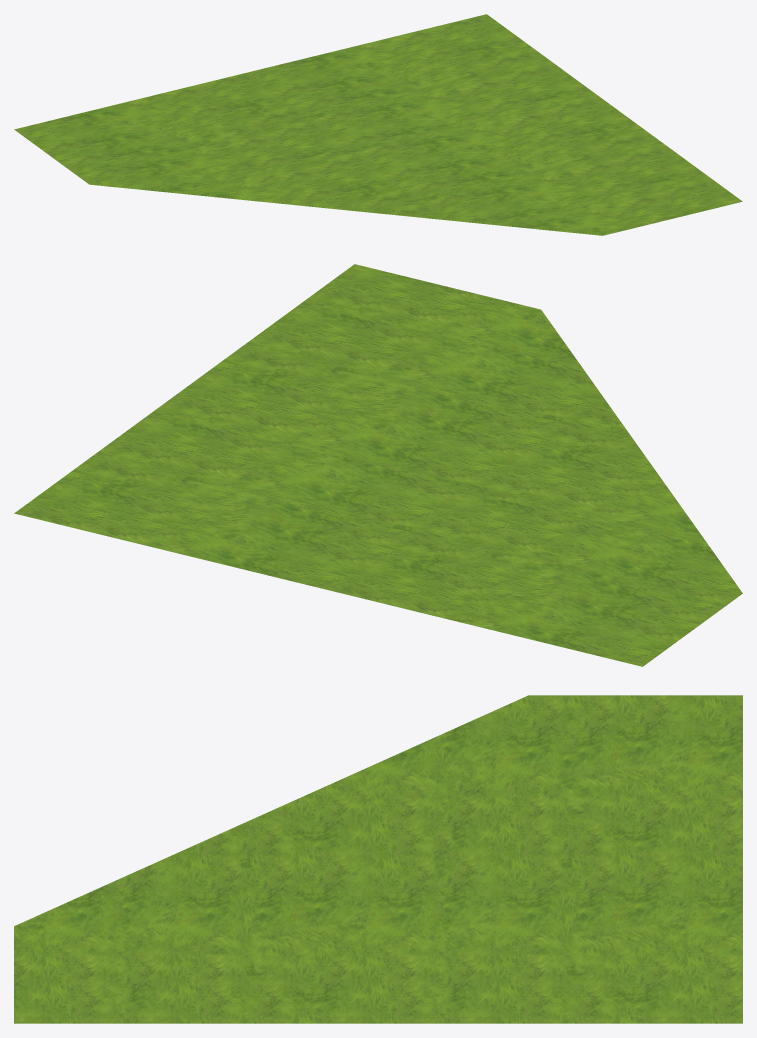
The model's file is GrassTile_L.fbx.
The picture shows the model from 3 angles, top to bottom: view 1: azimuth 30°, elevation 25°; view 2: azimuth 150°, elevation 25°; view 3: azimuth 270°, elevation 25°; orthographic projection. The views are drawn at different scales.
Parts seen in each view (by area): view 1: GrassTile_L; view 2: GrassTile_L; view 3: GrassTile_L.
Boxes of the visible parts, x1,y1,x2,y2 form: GrassTile_L: (14, 14, 742, 235); GrassTile_L: (14, 264, 742, 666); GrassTile_L: (14, 695, 742, 1023).
Size of the model in its own units: 2502 by 0 by 2348.
1 material, 1 textured.
